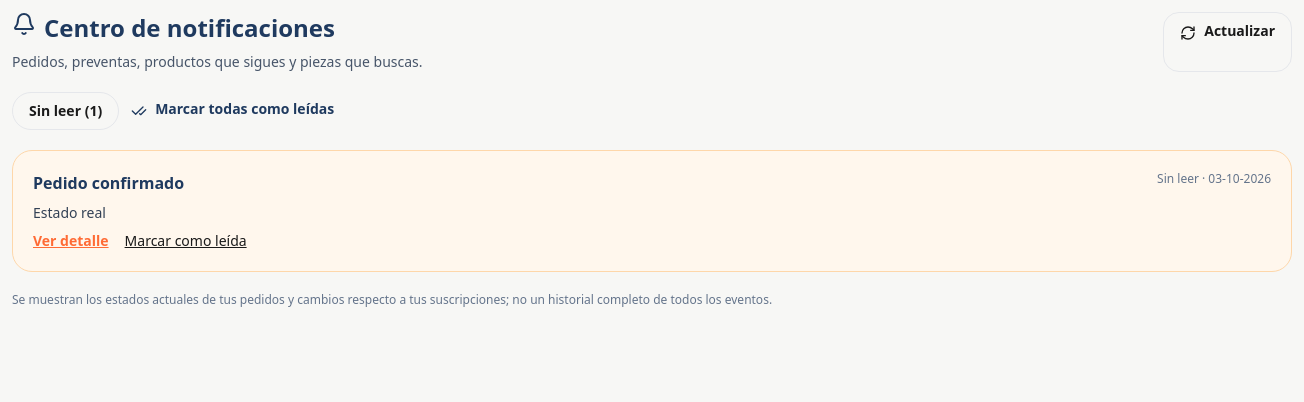
Test case: Customer notification screen › sends identity and waits for confirmed read state
Click the button "Marcar como leída". click: (186, 241)
box: [125,231,247,251]
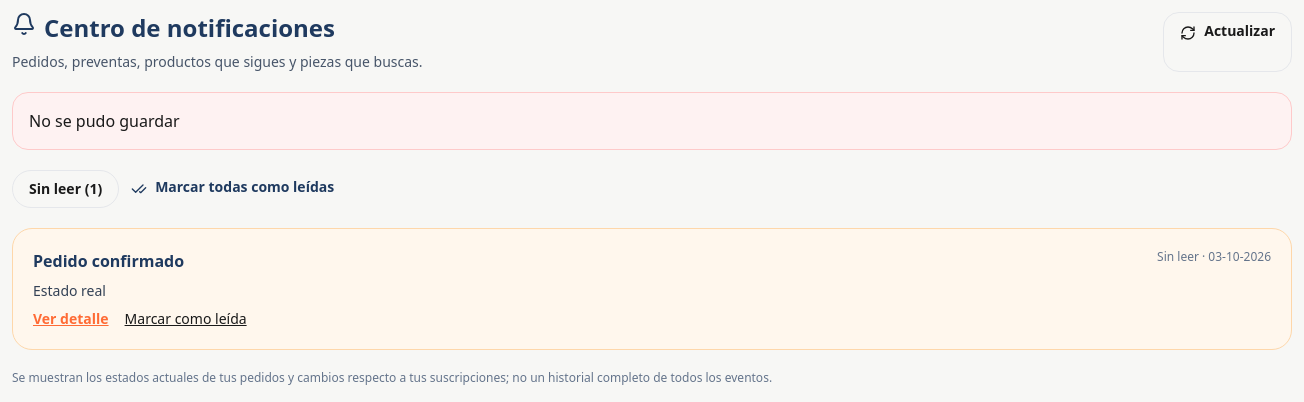
Expected: the text "Sin leer (1)" is shown, [12,170,119,208]
Expected: the message "No se pudo guardar" is shown, [12,92,1292,150]
